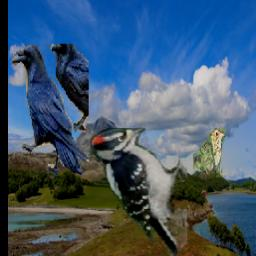Crow: (11, 44, 88, 176)
Sparrow: (192, 128, 225, 177)
Woodpecker: (90, 122, 187, 256)
